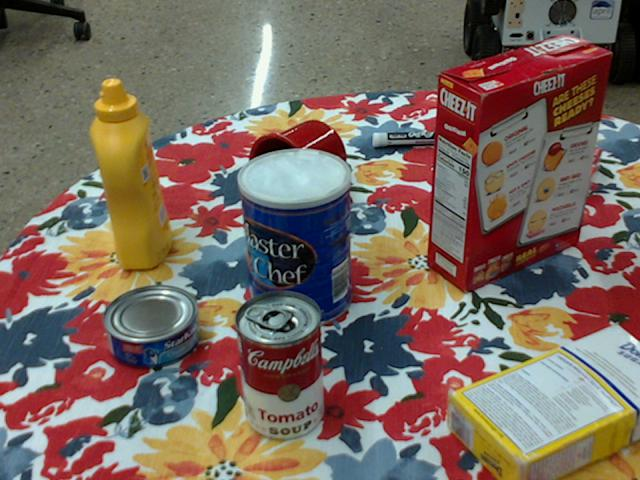cracker_box: (430, 36, 612, 292)
gelatin_box: (523, 139, 598, 198)
large_marker: (372, 129, 466, 145)
master_chef_can: (237, 147, 350, 329)
mug: (247, 119, 345, 212)
mustard_bottle: (91, 80, 172, 270)
sugar_box: (447, 323, 639, 479)
tomato_soup_can: (233, 290, 322, 440)
tuna_fish_can: (101, 283, 198, 366)
